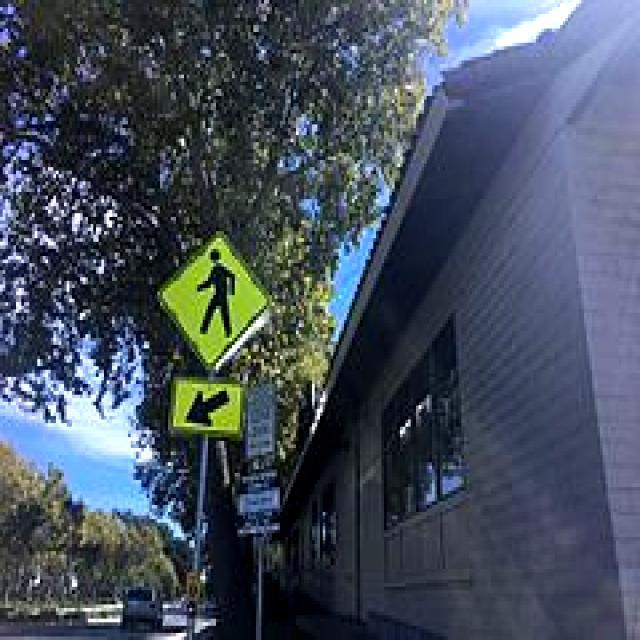Traffic sign: (153, 227, 277, 439)
